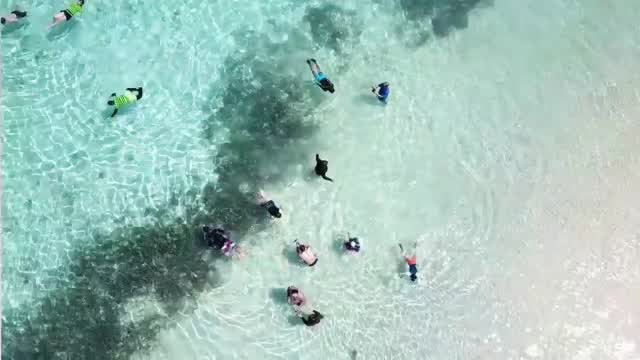people: (305, 57, 346, 101), (104, 86, 153, 117), (254, 190, 291, 224), (397, 244, 426, 286), (50, 1, 91, 26), (311, 153, 338, 183), (293, 240, 320, 267), (293, 310, 328, 329), (1, 9, 32, 28), (282, 286, 307, 308), (370, 81, 392, 105), (341, 234, 363, 257)
